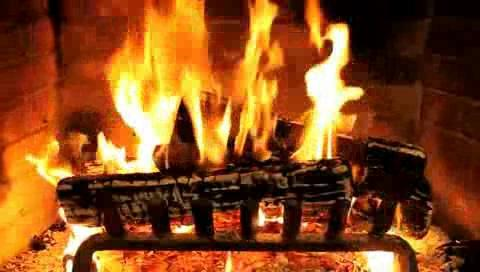fire: (112, 10, 388, 184)
